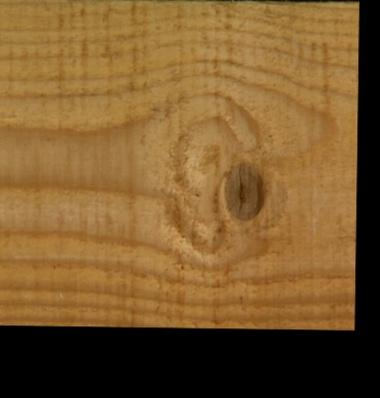sound_knot: (221, 159, 267, 222)
